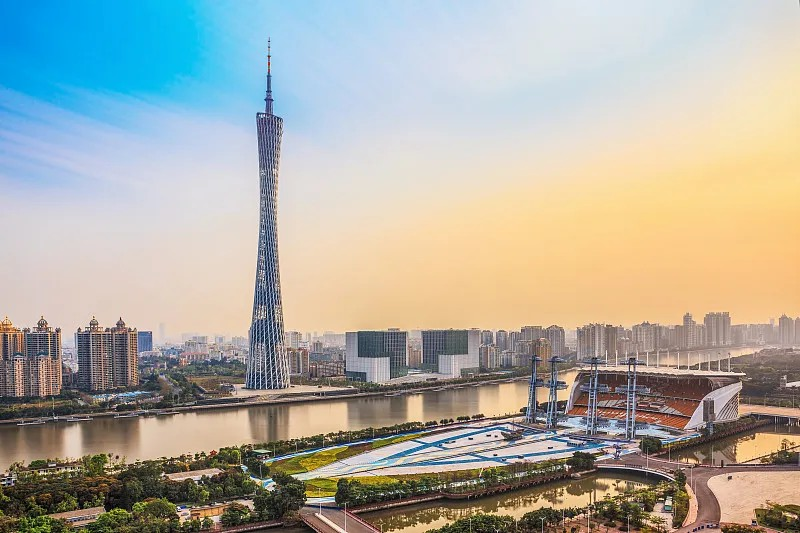Canton: (246, 34, 292, 390)
